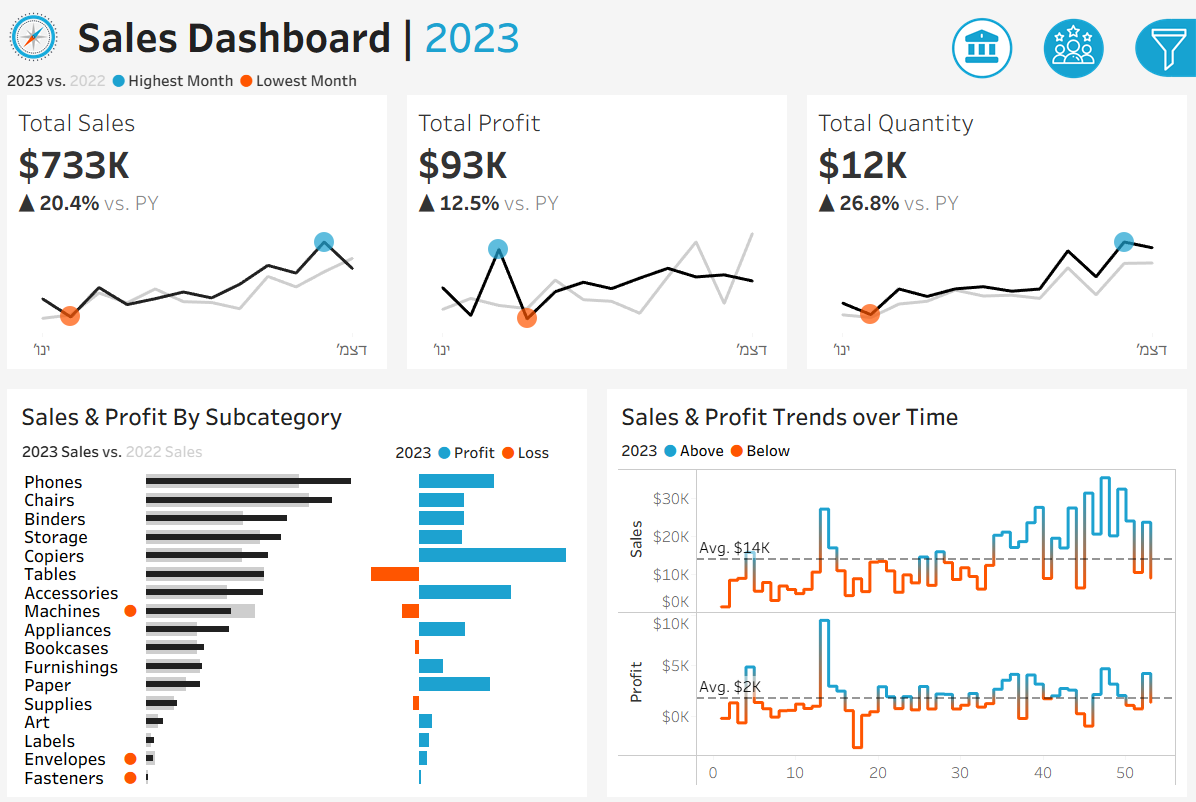

This screenshot's page, from the dashboard's own definition file:
{"tool":"tableau","page":{"name":"Sales Dashboard","canvas":[1200,800],"ordinal":1},"visuals":[{"type":"image","param":"Image/Icon - Logo.png","box":[0,0,73,59]},{"type":"text","box":[73,0,820,59]},{"type":"dashboard-object","box":[940,6,91,70]},{"type":"dashboard-object","box":[1031,6,91,70]},{"type":"blank","box":[952,10,237,86]},{"type":"worksheet","title":"Legend KPI","mark":"Automatic","box":[0,59,1200,29]},{"type":"worksheet","title":"KPI Sales","mark":"Automatic","rows":["Calculation_721701895347843083"],"cols":["Order Date"],"box":[0,88,400,284]},{"type":"worksheet","title":"KPI Profit","mark":"Automatic","rows":["Min/Max Sales (copy)_237846410425847814"],"cols":["Order Date"],"box":[400,88,400,284]},{"type":"worksheet","title":"KPI Quantity","mark":"Automatic","rows":["Min/Max Sales (copy) (copy)_237846410425856007"],"cols":["Order Date"],"box":[800,88,400,284]},{"type":"text","box":[952,96,237,37]},{"type":"parameter","param":"[Parameters].[Parameter 1]","box":[952,133,237,55]},{"type":"text","box":[952,188,237,32]},{"type":"filter","title":"KPI Sales","param":"[federated.1kpxa041aiai2y1cl4pui1t4eju9].[none:Category:nk]","box":[952,220,237,57]},{"type":"filter","title":"KPI Sales","param":"[federated.1kpxa041aiai2y1cl4pui1t4eju9].[none:Sub-Category:nk]","box":[952,277,237,57]},{"type":"blank","box":[952,334,237,60]},{"type":"text","box":[17,389,566,40]},{"type":"text","box":[617,389,566,40]},{"type":"text","box":[952,394,237,32]},{"type":"filter","title":"KPI Sales","param":"[federated.1kpxa041aiai2y1cl4pui1t4eju9].[none:Region:nk]","box":[952,426,237,57]},{"type":"worksheet","title":"Legend Subcategory","mark":"Automatic","box":[17,429,374,32]},{"type":"text","box":[391,429,192,32]},{"type":"text","box":[617,429,566,29]},{"type":"worksheet","title":"Weekly Trends","mark":"Automatic","rows":["Calculation_721701895334993921","CY Sales (copy)_237846410424180736"],"cols":["Order Date"],"box":[617,458,566,325]},{"type":"worksheet","title":"Subcategory Comparison","mark":"Bar","rows":["Sub-Category","Calculation_2435040078806671369"],"cols":["CY Sales (copy)_721701895335804930","Calculation_721701895334993921","CY Sales (copy)_237846410424180736"],"box":[17,461,566,321.9]},{"type":"filter","title":"KPI Sales","param":"[federated.1kpxa041aiai2y1cl4pui1t4eju9].[none:State:nk]","box":[952,483,237,57]},{"type":"filter","title":"KPI Sales","param":"[federated.1kpxa041aiai2y1cl4pui1t4eju9].[none:City:nk]","box":[952,540,237,57]}]}

Visuals, with their boxes in screenshot pixels (x1, y1, x2, y2), scaled from the page's 1200x800 canvas onto the 1196x802 screenshot:
image: (0, 0, 73, 59)
text: (73, 0, 890, 59)
dashboard-object: (937, 6, 1028, 76)
dashboard-object: (1028, 6, 1118, 76)
blank: (949, 10, 1185, 96)
"Legend KPI" worksheet: (0, 59, 1195, 88)
"KPI Sales" worksheet: (0, 88, 399, 373)
"KPI Profit" worksheet: (399, 88, 797, 373)
"KPI Quantity" worksheet: (797, 88, 1195, 373)
text: (949, 96, 1185, 133)
parameter: (949, 133, 1185, 188)
text: (949, 188, 1185, 221)
"KPI Sales" filter: (949, 221, 1185, 278)
"KPI Sales" filter: (949, 278, 1185, 335)
blank: (949, 335, 1185, 395)
text: (17, 390, 581, 430)
text: (615, 390, 1179, 430)
text: (949, 395, 1185, 427)
"KPI Sales" filter: (949, 427, 1185, 484)
"Legend Subcategory" worksheet: (17, 430, 390, 462)
text: (390, 430, 581, 462)
text: (615, 430, 1179, 459)
"Weekly Trends" worksheet: (615, 459, 1179, 785)
"Subcategory Comparison" worksheet (Bar marks): (17, 462, 581, 785)
"KPI Sales" filter: (949, 484, 1185, 541)
"KPI Sales" filter: (949, 541, 1185, 598)
